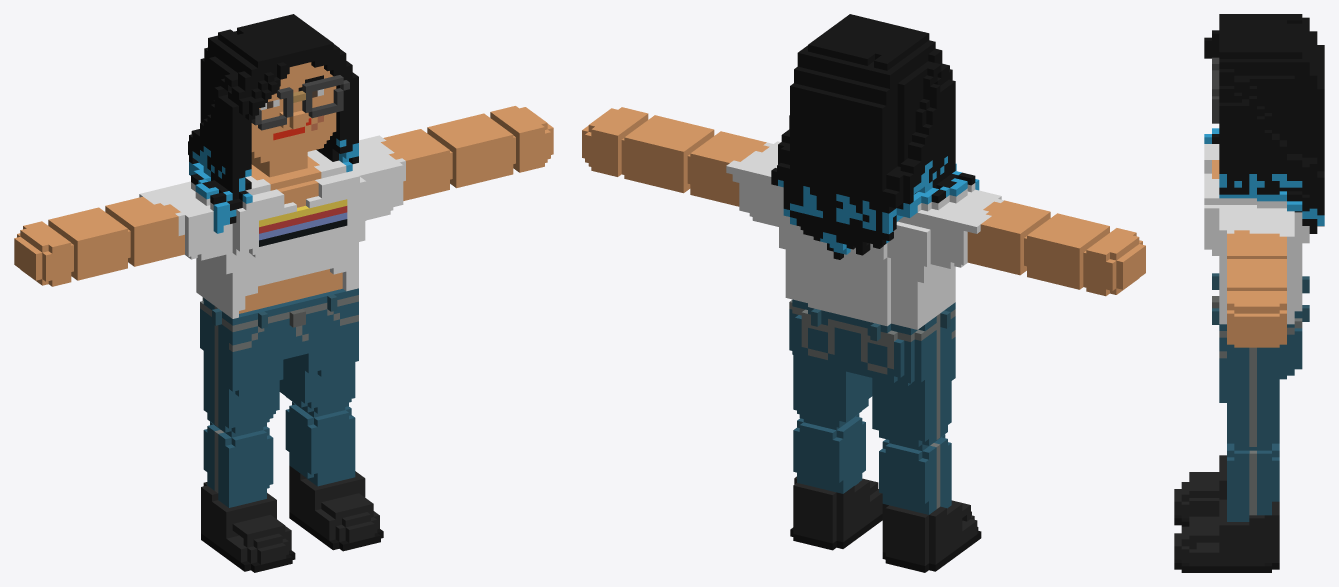
Rendered from Personaje1.glb.
The picture shows the model from 3 angles, left to right: view 1: azimuth 30°, elevation 25°; view 2: azimuth 150°, elevation 25°; view 3: azimuth 270°, elevation 25°; orthographic projection. The views are drawn at different scales.
Visible parts, largest first — view 1: node_id3; view 2: node_id3; view 3: node_id3.
Boxes of the visible parts, left/top/right/bottom form: node_id3: left=14, top=14, right=553, bottom=572; node_id3: left=582, top=14, right=1145, bottom=572; node_id3: left=1174, top=14, right=1324, bottom=572.
Bounding box in the file's own units: 0.512 × 0.462 × 0.1249.
Materials: 1 (1 with a texture image).
